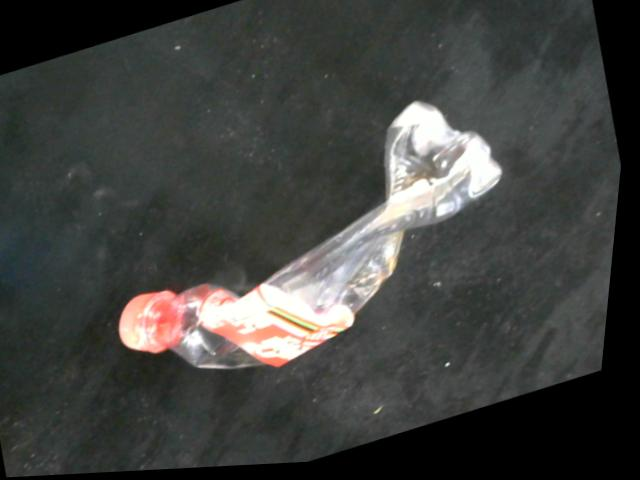bottle: (117, 94, 521, 380)
